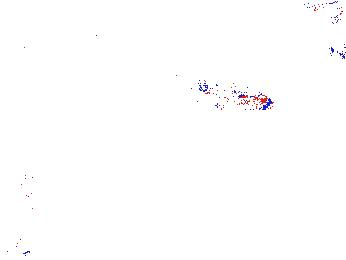X-ray fish: (125, 223, 163, 260)
red belly glassfish: (196, 76, 275, 113)
redtail glassfish: (6, 169, 35, 260)
